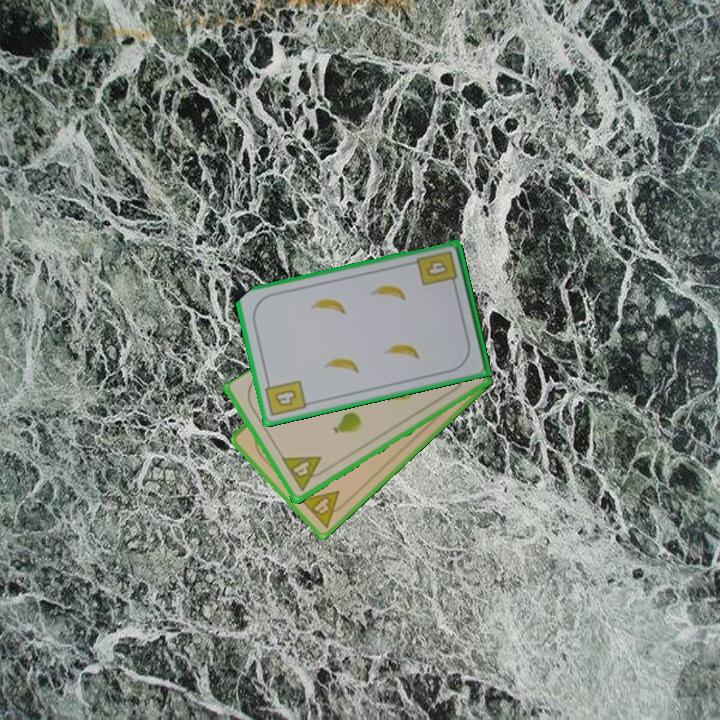4b: (262, 376, 309, 420), (414, 247, 460, 290)
4p: (297, 487, 351, 531), (279, 453, 330, 495)
